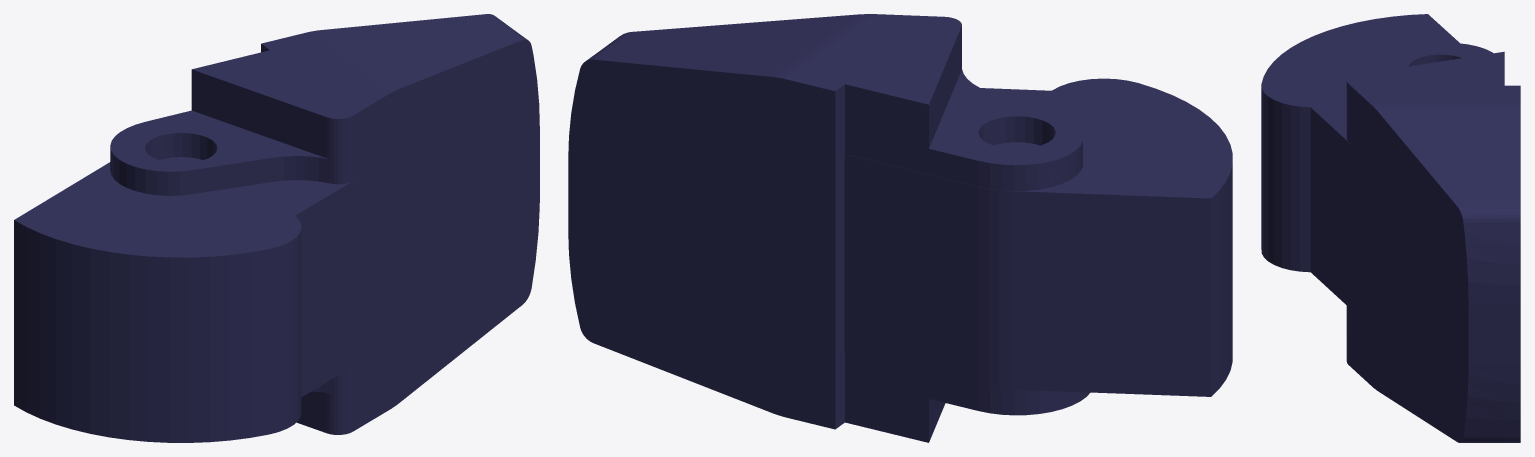
The picture shows the model from 3 angles, left to right: view 1: azimuth 30°, elevation 25°; view 2: azimuth 150°, elevation 25°; view 3: azimuth 270°, elevation 25°; orthographic projection. The views are drawn at different scales.
Parts seen in each view (by area): view 1: link_3; view 2: link_3; view 3: link_3.
Boxes of the visible parts, x1,y1,x2,y2 form: link_3: (14,14,539,442); link_3: (568,14,1232,442); link_3: (1261,14,1520,442).
Bounding box in the file's own units: 0.0558 × 0.0257 × 0.0307.
